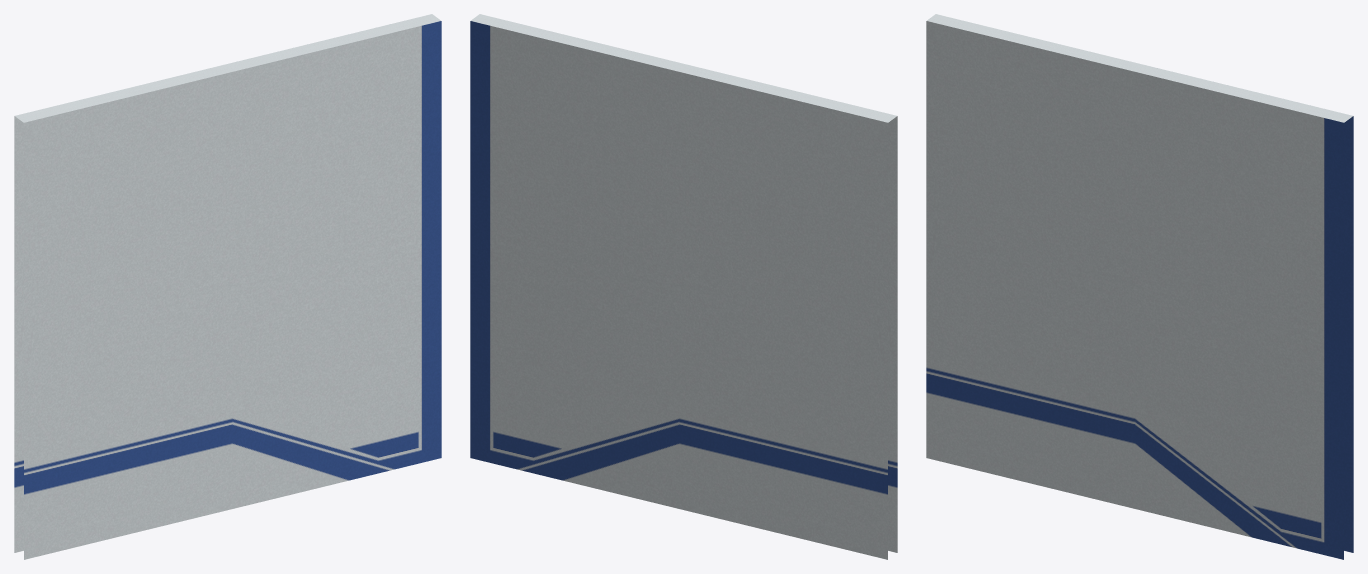
The model's file is FrameWall.fbx.
The picture shows the model from 3 angles, left to right: view 1: azimuth 30°, elevation 25°; view 2: azimuth 150°, elevation 25°; view 3: azimuth 330°, elevation 25°; orthographic projection.
Visible parts, largest first — view 1: pCube3; view 2: pCube3; view 3: pCube3.
Part boxes in pixels (x1,y1,x2,y2): pCube3: [14, 14, 441, 559]; pCube3: [470, 14, 897, 559]; pCube3: [926, 14, 1353, 559].
Size of the model in its own units: 256 by 256 by 10.
